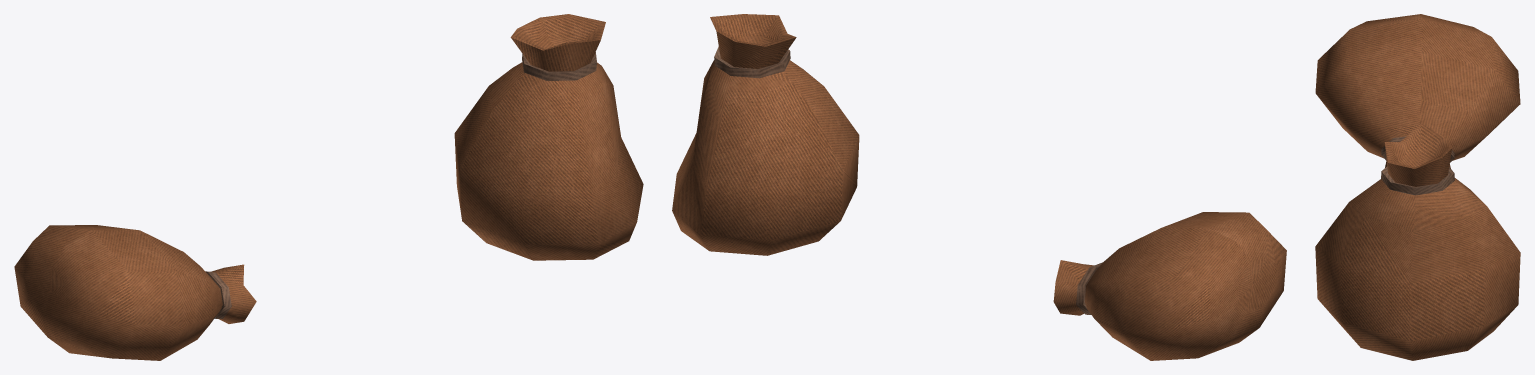
File: CostalesRegados_Arriba.fbx
The picture shows the model from 3 angles, left to right: view 1: azimuth 30°, elevation 25°; view 2: azimuth 150°, elevation 25°; view 3: azimuth 270°, elevation 25°; orthographic projection. The views are drawn at different scales.
Visible parts, largest first — view 1: Sphere.001, Sphere.002; view 2: Sphere.001, Sphere.002; view 3: Sphere.001, Sphere.002.
Part boxes in pixels (x1,y1,x2,y2): Sphere.001: (454,14,643,260); Sphere.002: (14,225,256,360); Sphere.001: (672,14,859,255); Sphere.002: (1053,212,1286,360); Sphere.001: (1315,123,1520,360); Sphere.002: (1315,14,1520,168).
Bounding box in the file's own units: 804 × 280 × 259.
Materials: 2 (2 with a texture image).
